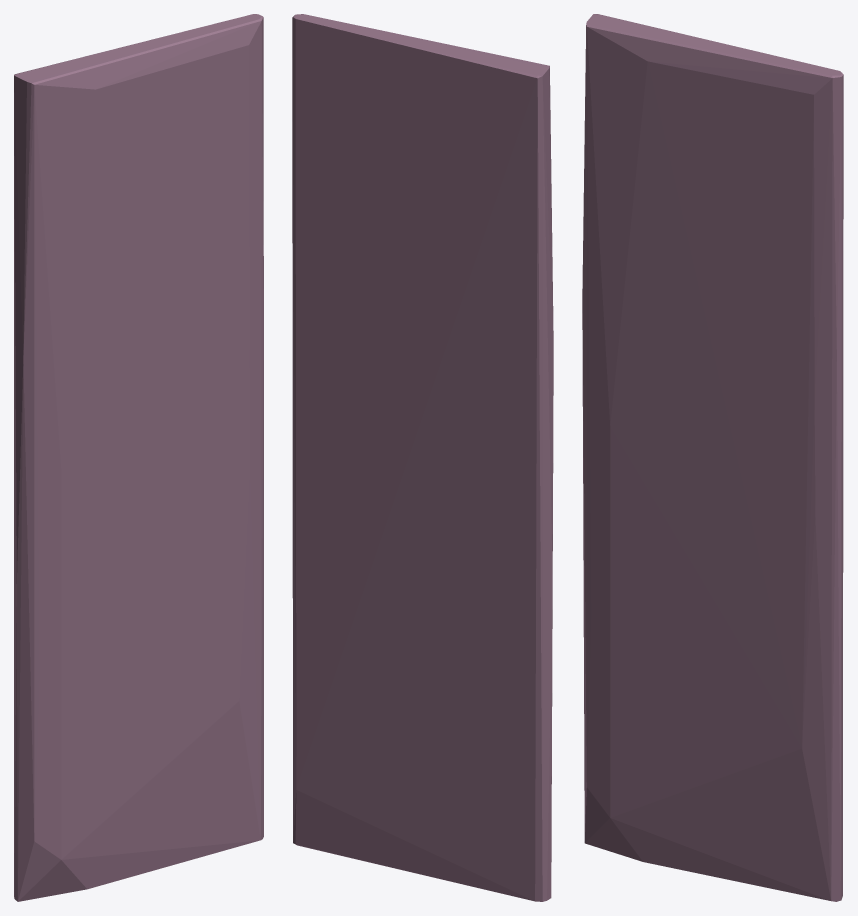
Rendered from warehouse_computer_keyboard_a01.glb.
The picture shows the model from 3 angles, left to right: view 1: azimuth 30°, elevation 25°; view 2: azimuth 150°, elevation 25°; view 3: azimuth 330°, elevation 25°; orthographic projection.
Visible parts, largest first — view 1: geometry_0; view 2: geometry_0; view 3: geometry_0.
Boxes of the visible parts, bbox=[...] form: geometry_0: bbox=[14, 14, 263, 901]; geometry_0: bbox=[292, 14, 553, 901]; geometry_0: bbox=[582, 14, 843, 901].
Bounding box in the file's own units: 0.154 × 0.48 × 0.022.
